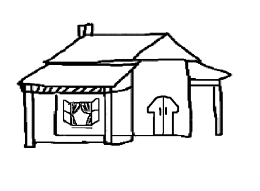chimney: (72, 17, 99, 44)
door: (144, 91, 183, 140)
open_window: (62, 98, 100, 127)
roof: (39, 31, 207, 71)
wall: (126, 54, 193, 142)
